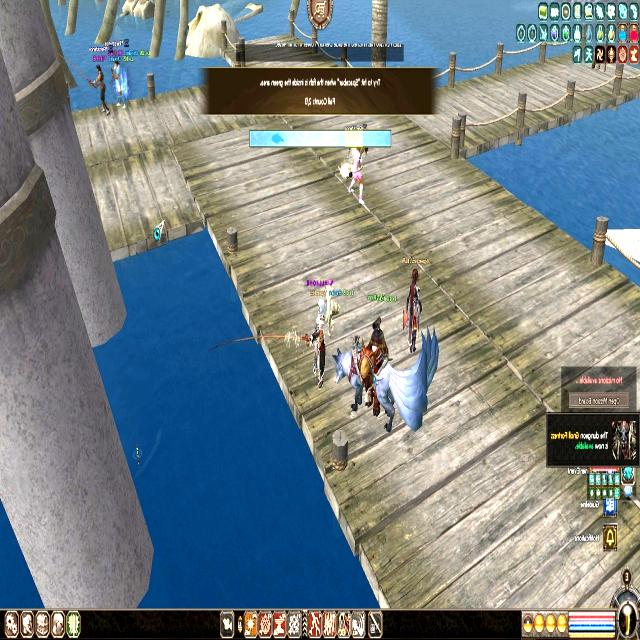fishes: (272, 133, 284, 144)
